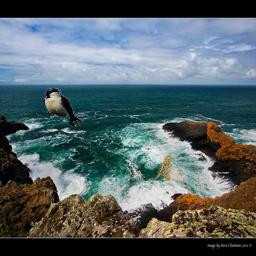Sparrow: (153, 155, 171, 181)
Swallow: (44, 88, 84, 127)
